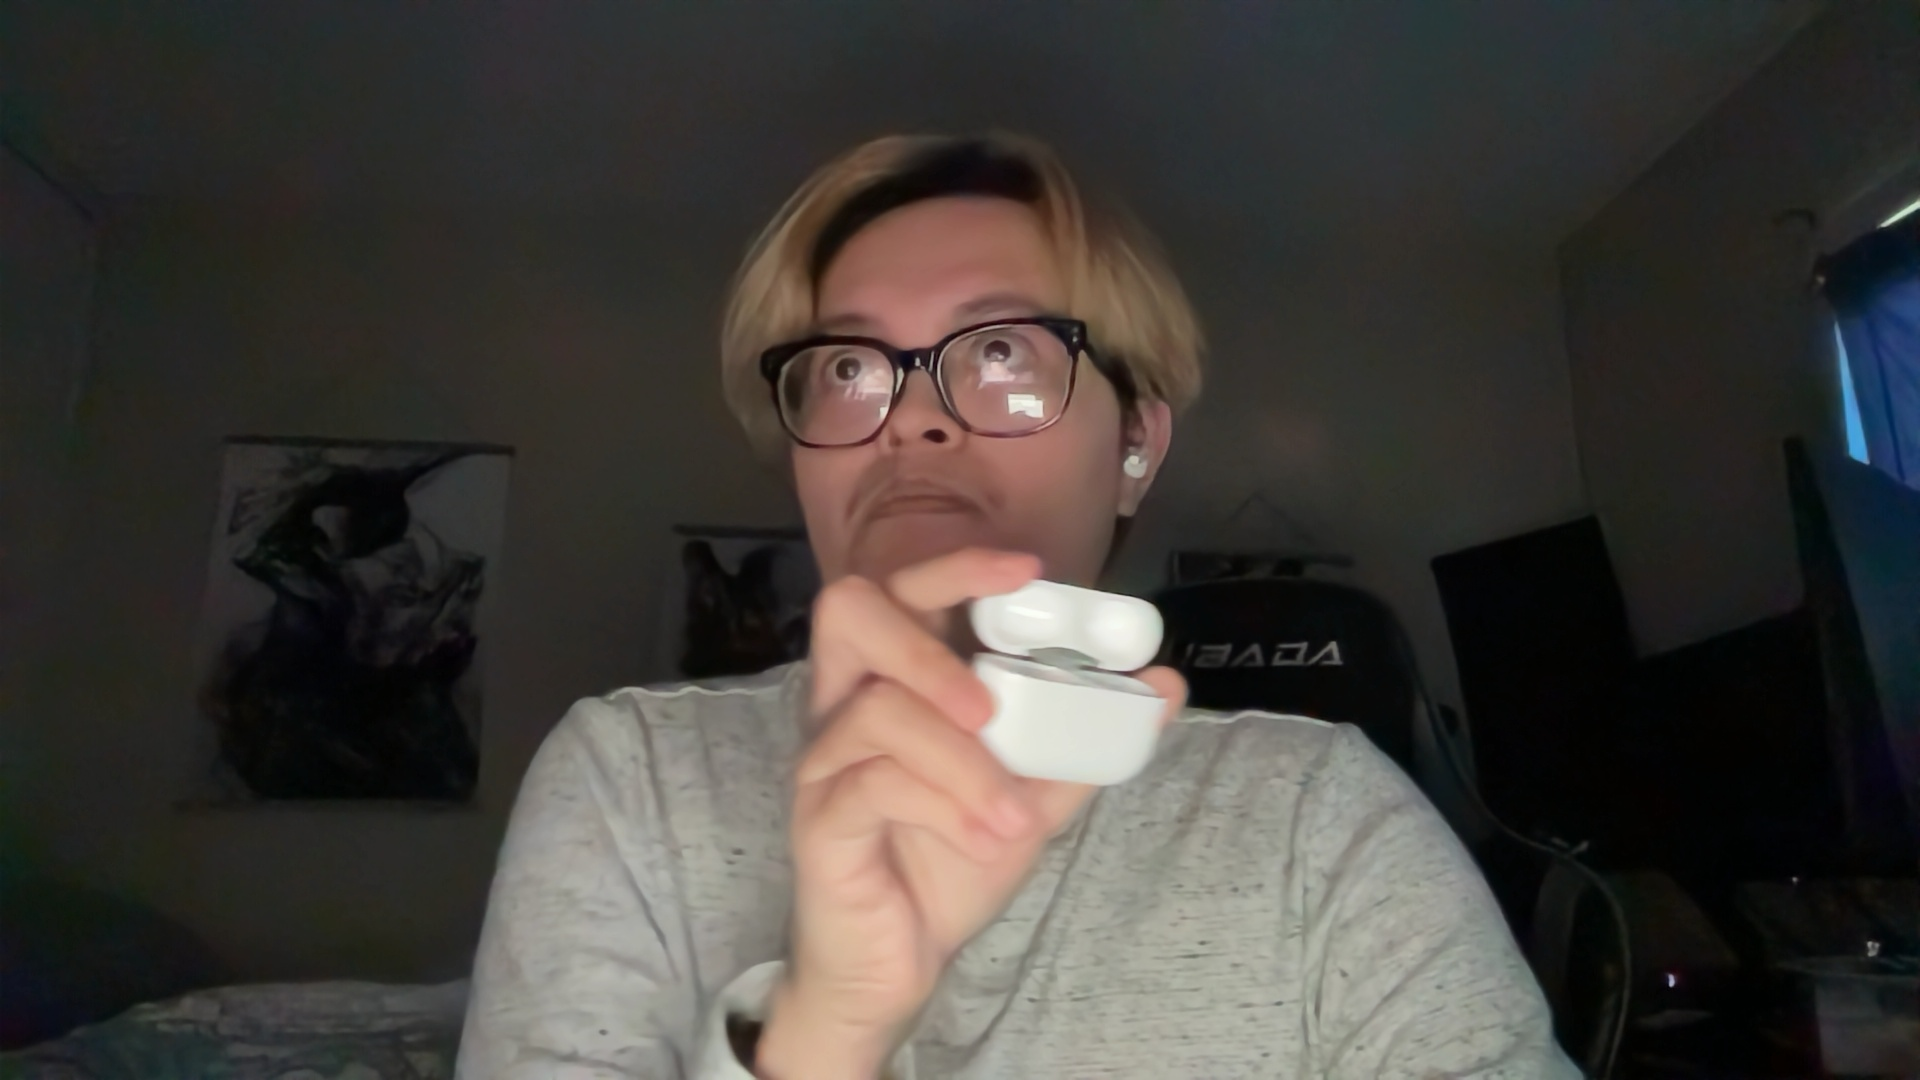airpods: (967, 564, 1170, 786)
